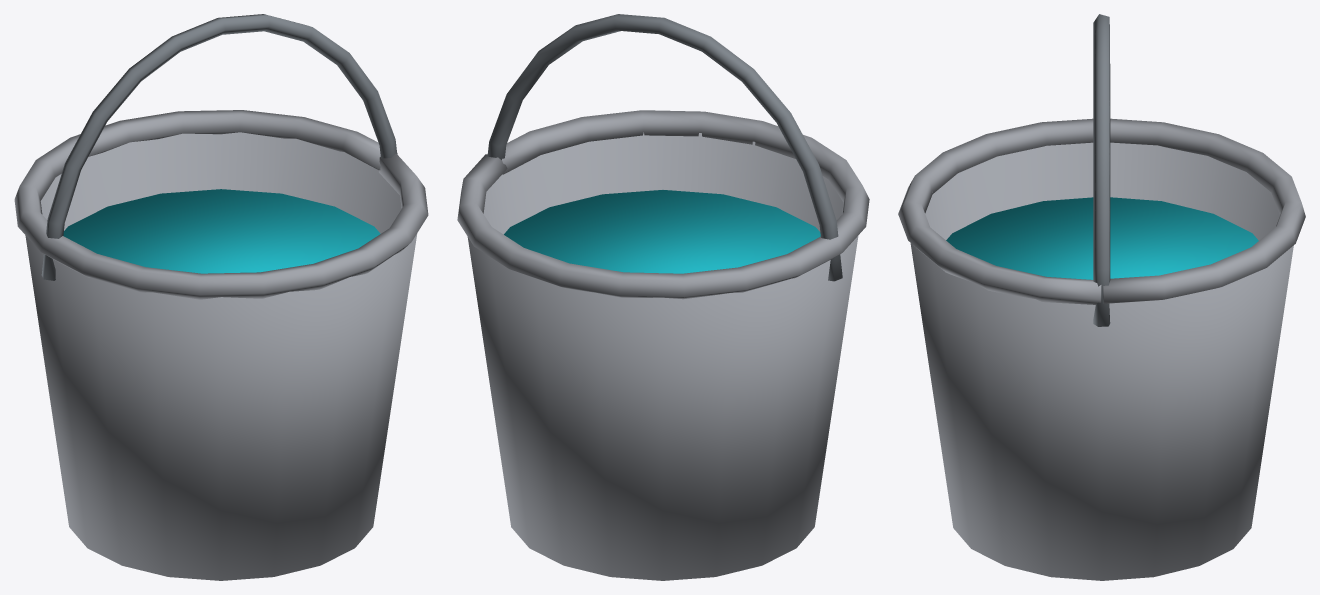
Rendered from cyan_paint.glb.
3 views of the same model, side by side, from view 1: azimuth 30°, elevation 25°; view 2: azimuth 150°, elevation 25°; view 3: azimuth 270°, elevation 25° (orthographic).
Parts seen in each view (by area): view 1: cyan_paint_v0; view 2: cyan_paint_v0; view 3: cyan_paint_v0.
Boxes of the visible parts, x1,y1,x2,y2 form: cyan_paint_v0: [14, 14, 428, 580]; cyan_paint_v0: [457, 14, 869, 580]; cyan_paint_v0: [898, 14, 1305, 580].
Bounding box in the file's own units: 0.2696 × 0.3556 × 0.2693.
